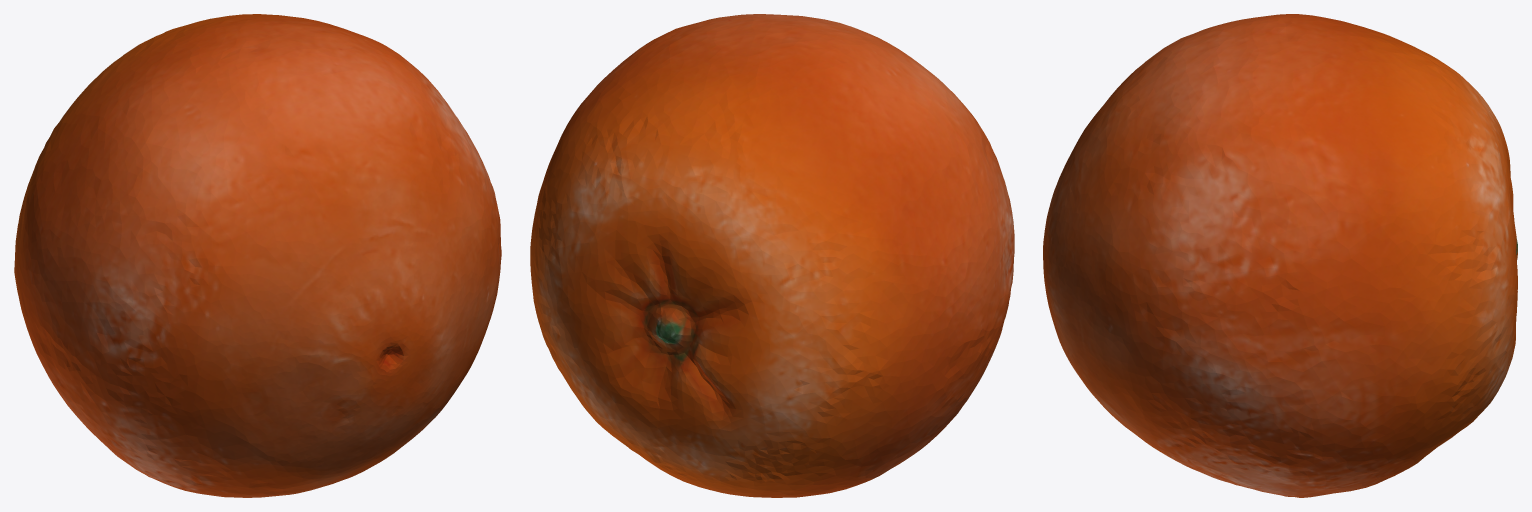
Rendered from orange.glb.
The picture shows the model from 3 angles, left to right: view 1: azimuth 30°, elevation 25°; view 2: azimuth 150°, elevation 25°; view 3: azimuth 270°, elevation 25°; orthographic projection.
Visible parts, largest first — view 1: textured.obj; view 2: textured.obj; view 3: textured.obj.
Boxes of the visible parts, bbox=[...] form: textured.obj: bbox=[14, 14, 501, 497]; textured.obj: bbox=[530, 14, 1014, 497]; textured.obj: bbox=[1043, 14, 1517, 497].
Bounding box in the file's own units: 0.0717 × 0.0724 × 0.0714.
Materials: 1 (1 with a texture image).
